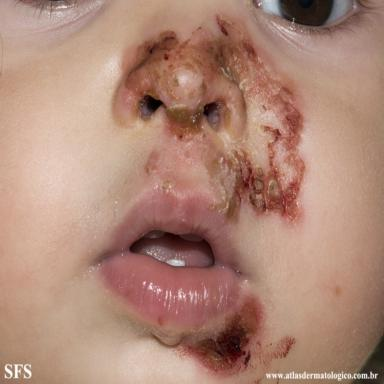Impetigo: (114, 12, 307, 226), (172, 293, 297, 384), (143, 148, 181, 193)
